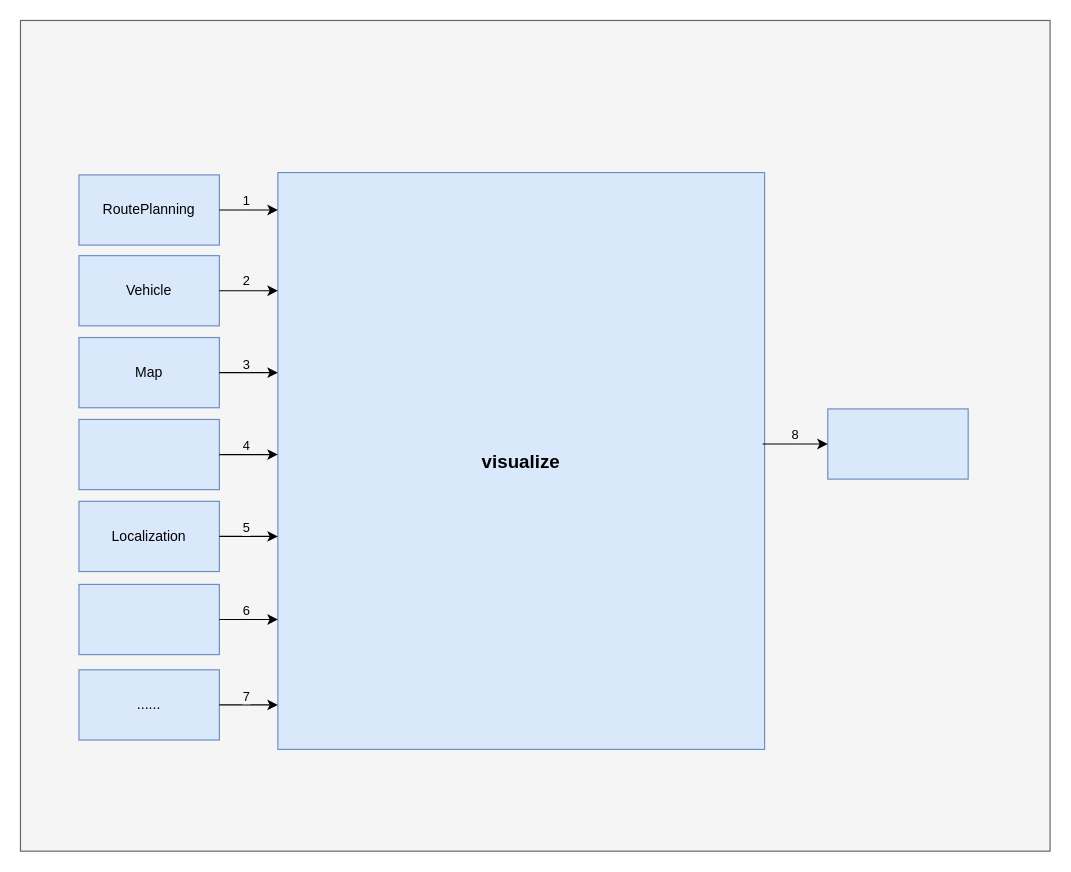
Some shapes in this 1071 by 872 pixel diagram are drawn without their labels. Here are the shapes that lost their labels. From the top down, the centre of each, then its label:
At point 148,454: "MotionPlanning".
At point 897,443: "mviz".
At point 148,619: "MissionPlanning".
